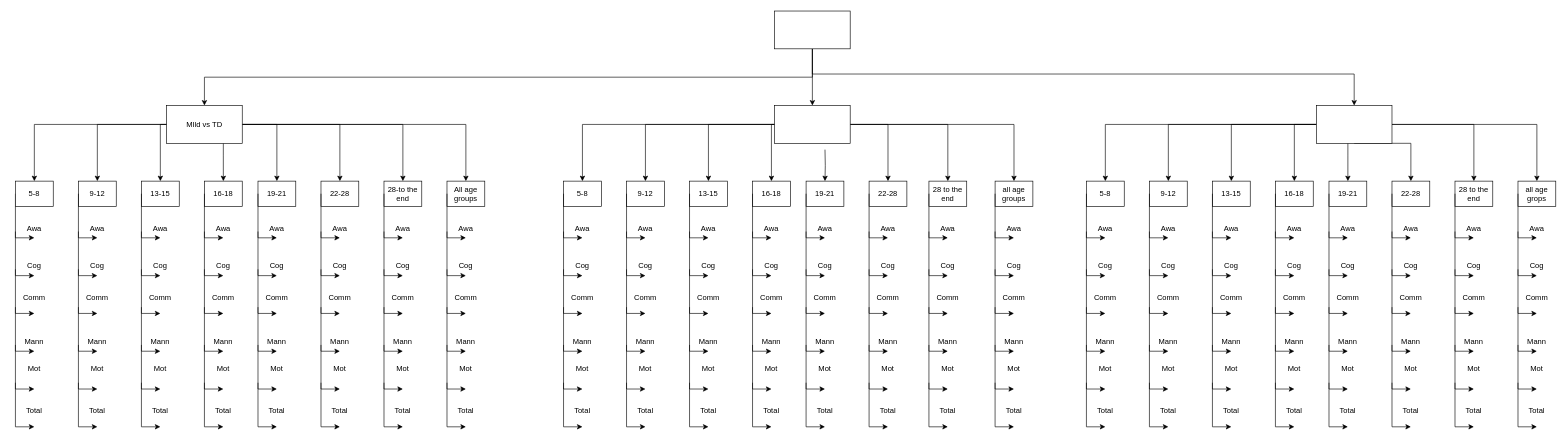
Image size: 1567x443. Some labels were removed from this diagram. Each missing label, with the box of its shape:
ABIDE II dataset: (774, 10, 850, 49)
Moderate vs TD: (774, 105, 850, 143)
Sever vs TD: (1316, 105, 1392, 143)
